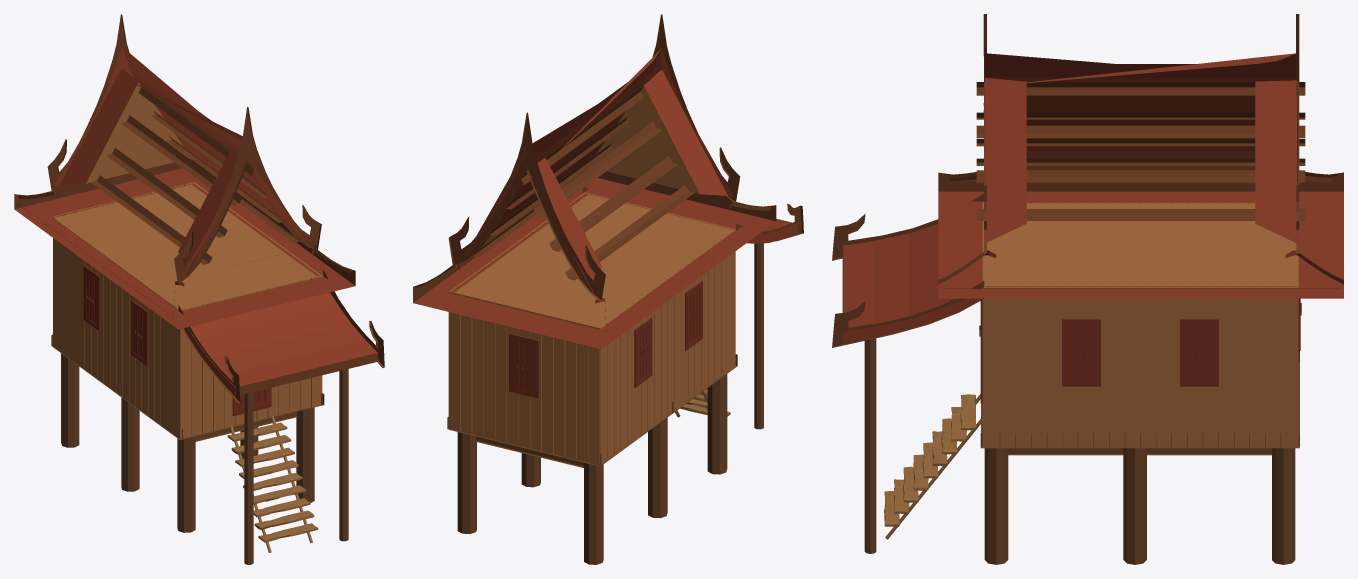
The model's file is thai_house3.glb.
3 renders of one model, left to right at view 1: azimuth 30°, elevation 25°; view 2: azimuth 150°, elevation 25°; view 3: azimuth 270°, elevation 25°, orthographic. The views are drawn at different scales.
Parts seen in each view (by area): view 1: thai_house3; view 2: thai_house3; view 3: thai_house3.
Part boxes in pixels (bbox=[...]): thai_house3: bbox=[14, 14, 384, 564]; thai_house3: bbox=[413, 14, 803, 564]; thai_house3: bbox=[832, 14, 1343, 564].
Size of the model in its own units: 3.84 by 8.54 by 7.75.
